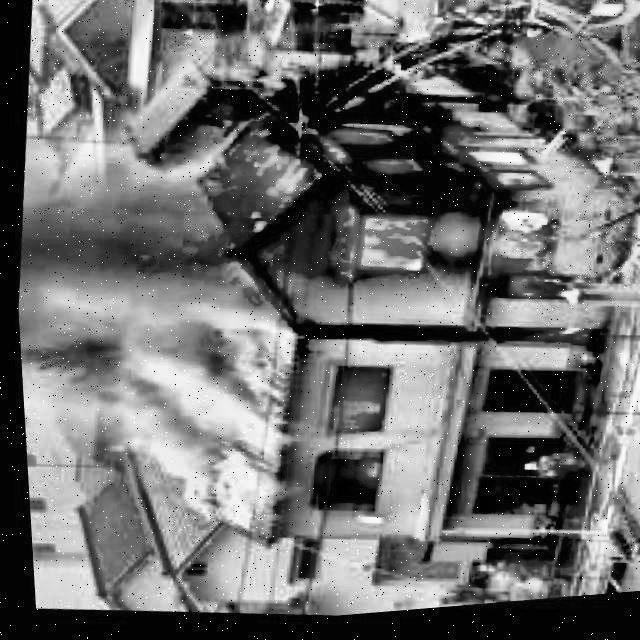Smoke: (7, 132, 289, 507)
